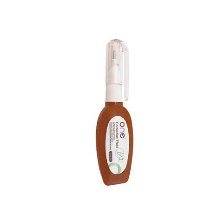correction_fluid: (92, 33, 136, 190)
